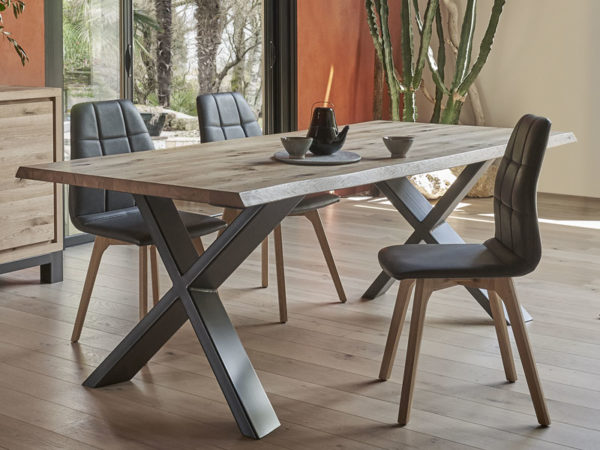chair: (375, 112, 564, 436), (62, 90, 230, 354), (191, 86, 361, 323)
table: (12, 118, 581, 445)
